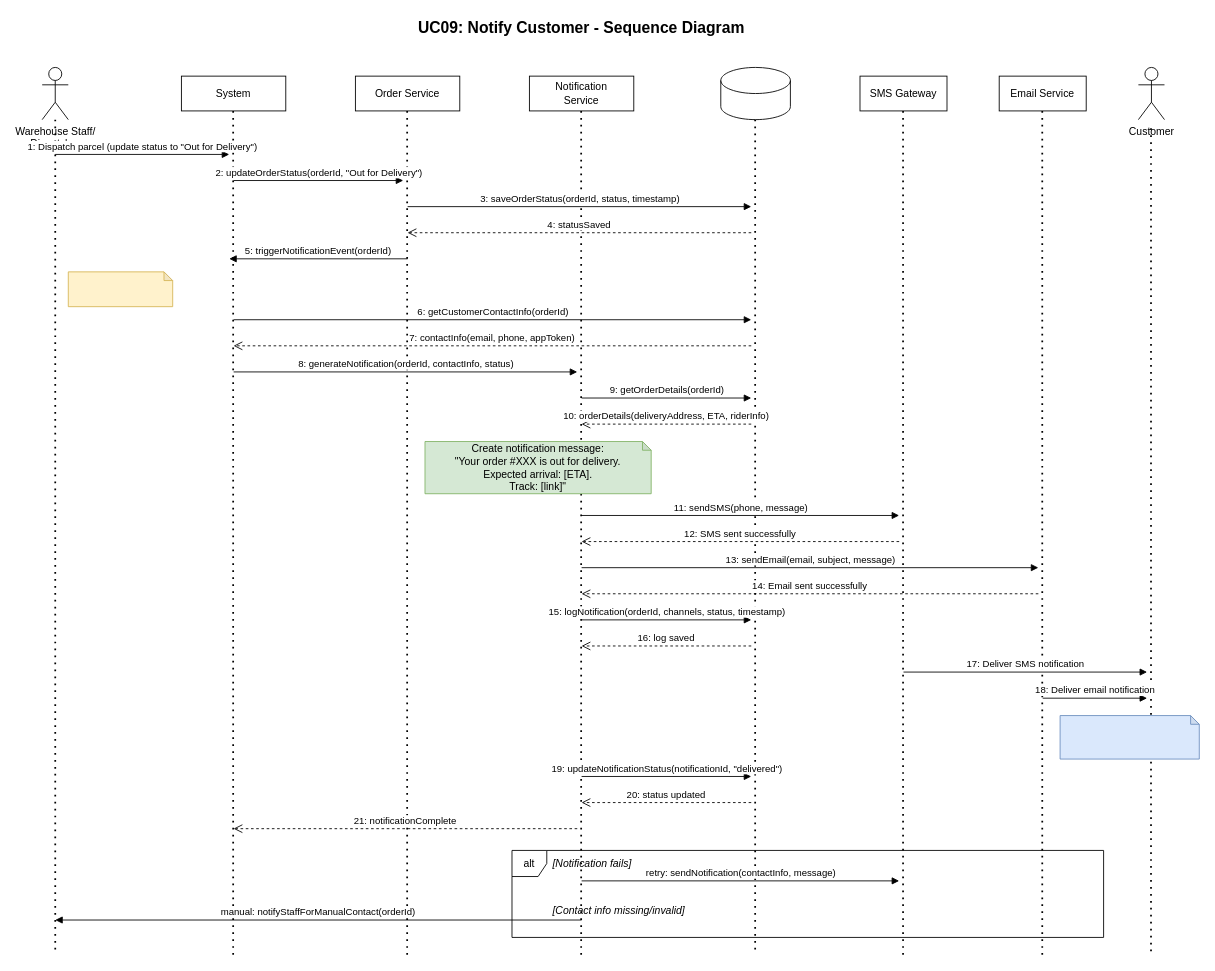
Image size: 1215x971. Some labels were removed from this diagram. Here are the shapes that lost their labels. From the top down, the centre of each, then its label:
the point at 755,93: Database
the point at 120,289: System detects dispatch event
the point at 1129,737: Customer receives notification and can track order
